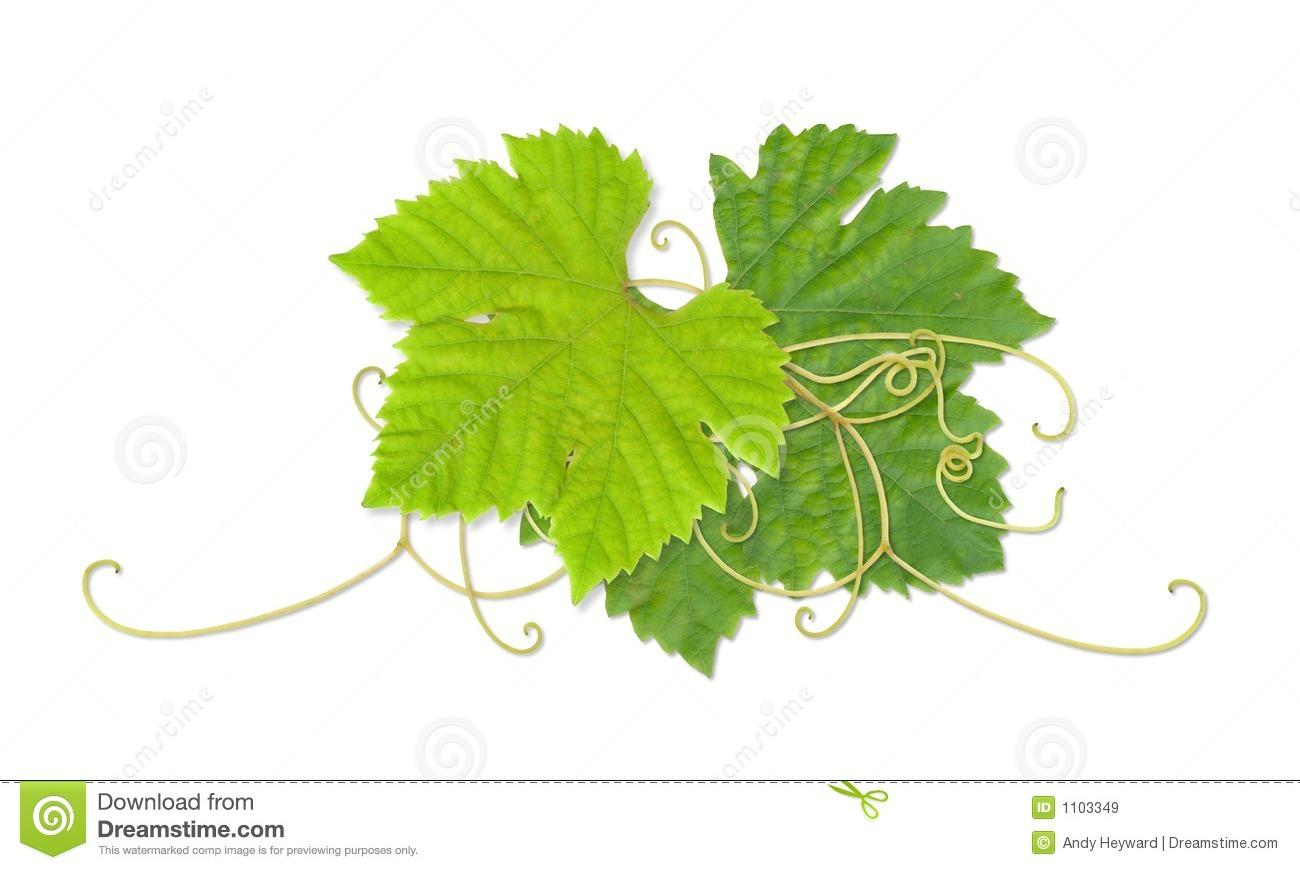grape leaf black rot: (316, 122, 796, 609)
